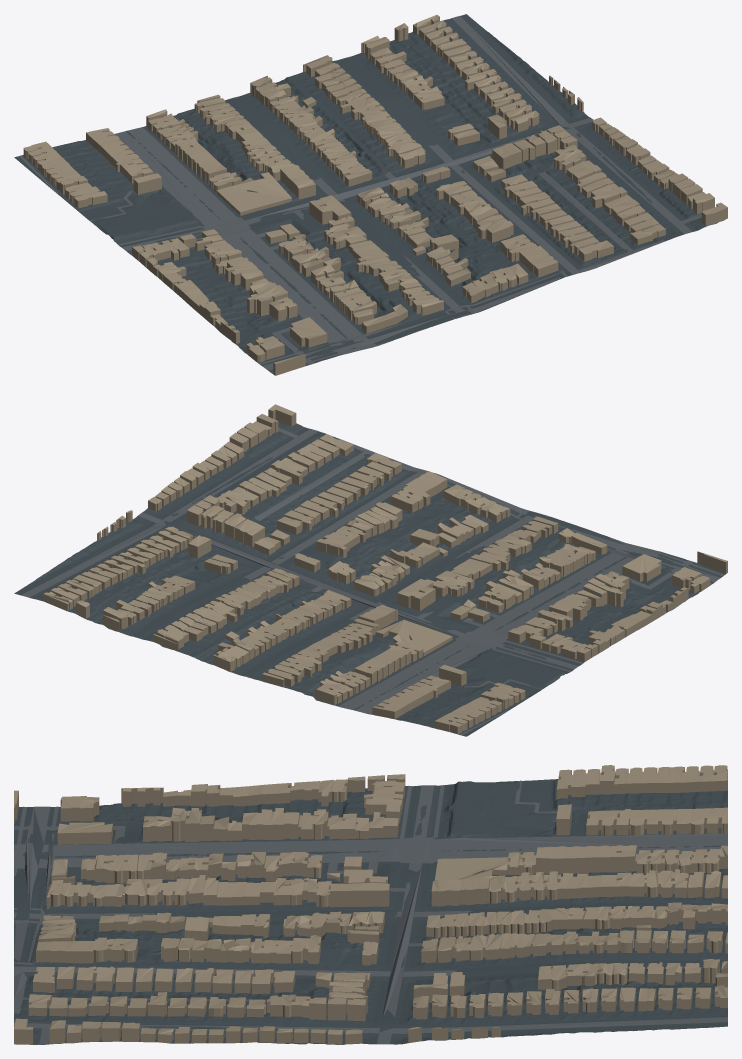
File: epsg26910-1422-10881.lod0.glb
3 renders of one model, top to bottom at view 1: azimuth 30°, elevation 25°; view 2: azimuth 150°, elevation 25°; view 3: azimuth 270°, elevation 25°, orthographic. The views are drawn at different scales.
Visible parts, largest first — view 1: epsg26910-1422-10881-lod0; view 2: epsg26910-1422-10881-lod0; view 3: epsg26910-1422-10881-lod0.
Boxes of the visible parts, x1,y1,x2,y2 form: epsg26910-1422-10881-lod0: (14,14,727,375); epsg26910-1422-10881-lod0: (14,404,727,736); epsg26910-1422-10881-lod0: (14,765,727,1044).
Size of the model in its own units: 384 by 54.28 by 384.
